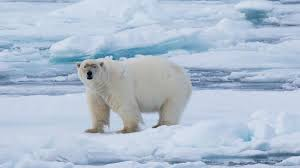PolarBear: (75, 49, 193, 138)
